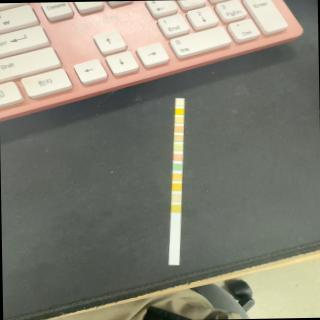mark: (173, 143, 183, 151), (173, 134, 183, 142), (172, 182, 182, 190), (171, 193, 181, 201), (171, 204, 181, 212), (174, 99, 184, 106), (173, 153, 183, 160), (172, 163, 182, 170), (172, 173, 182, 180), (174, 108, 183, 115), (174, 125, 183, 132), (174, 117, 183, 123)
